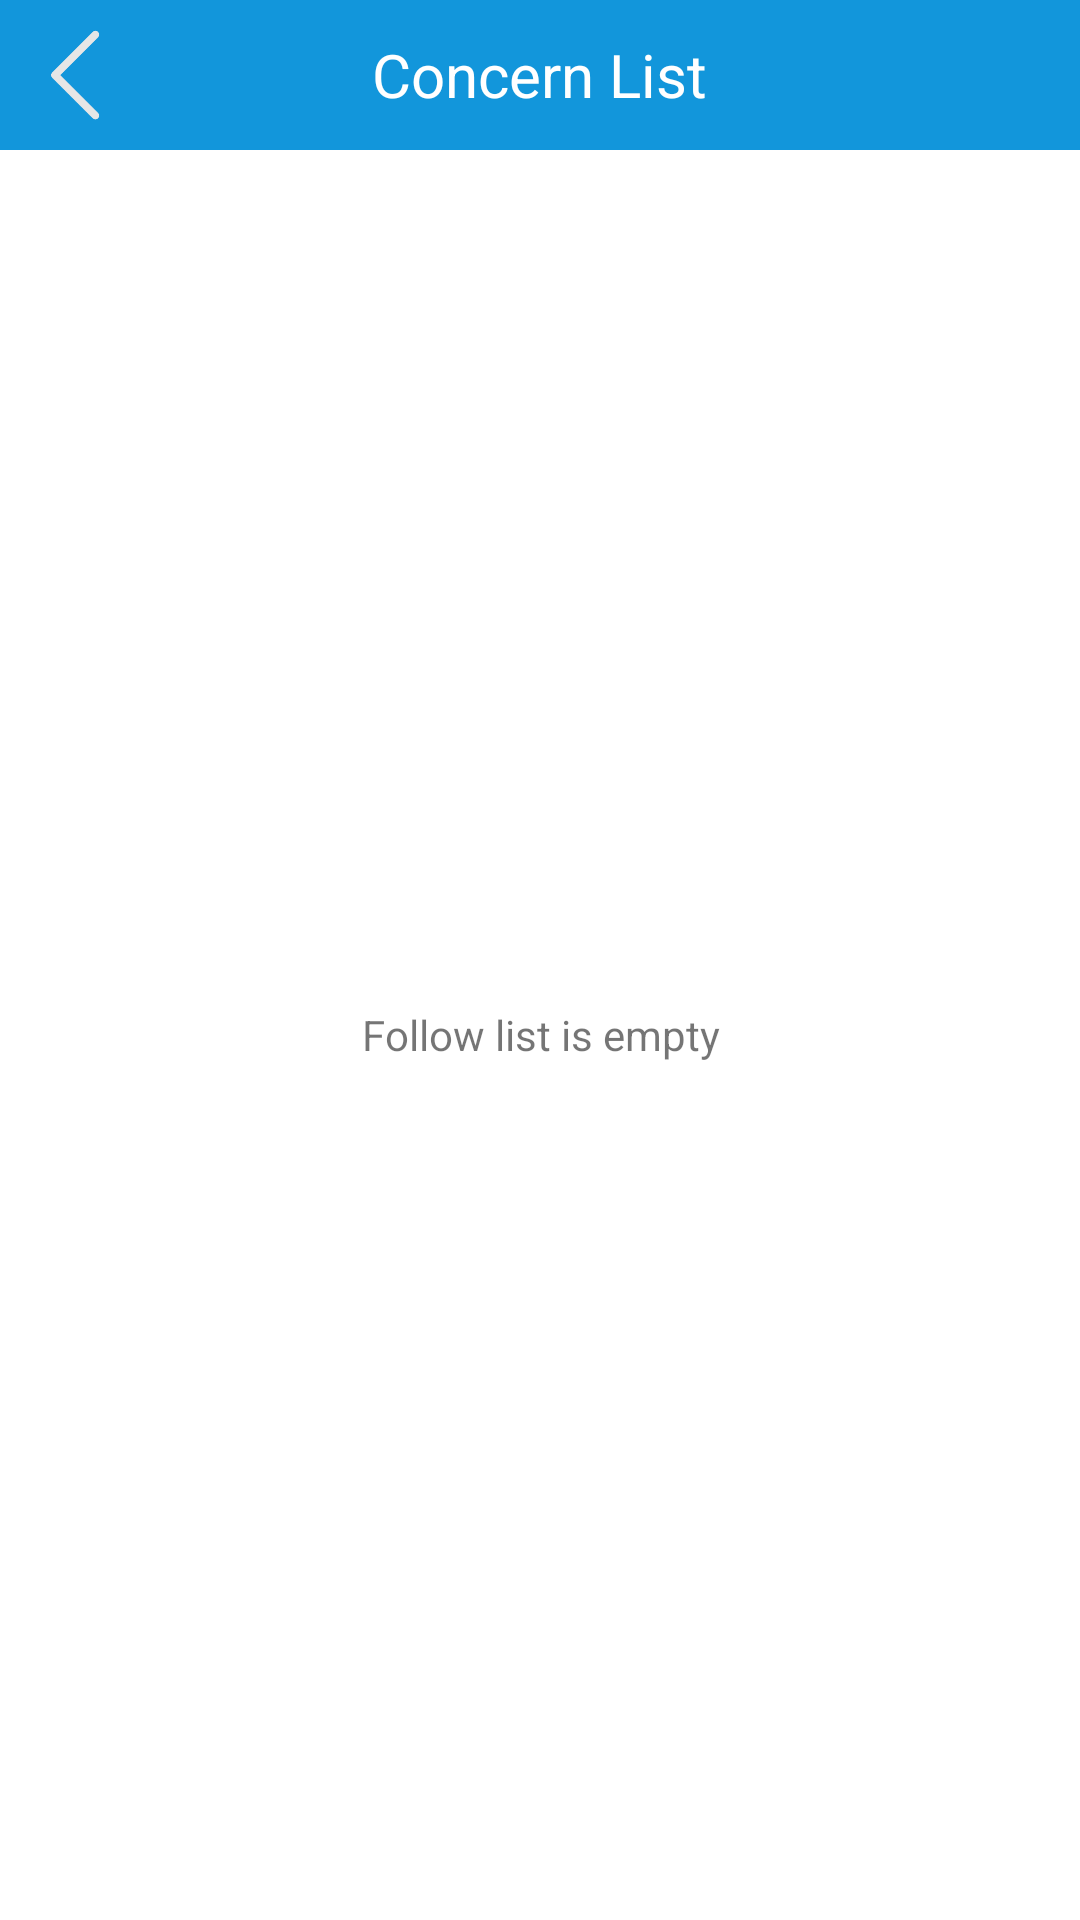

Screen size 1080w x 1920h. Icon name, then its center in pixels as (x=x, y=y):
back: (x=75, y=75)
